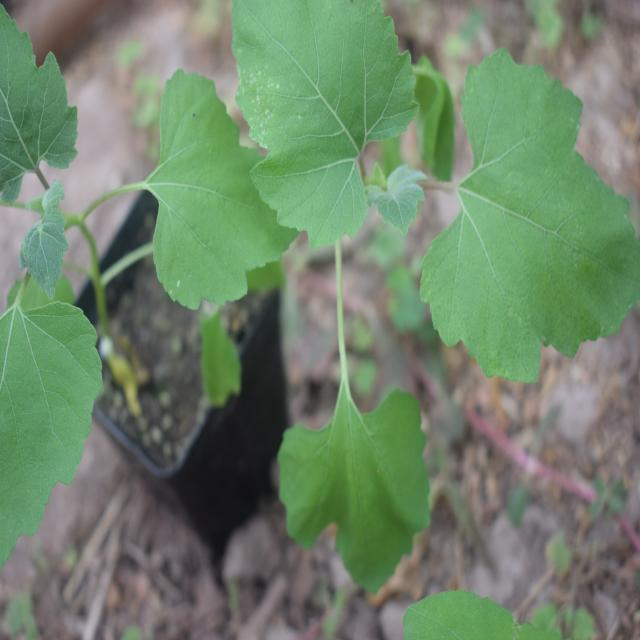cocklebur: (230, 0, 624, 564), (0, 27, 268, 561)
